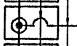Single Phase Tap-Off Unit: (2, 4, 61, 42)
